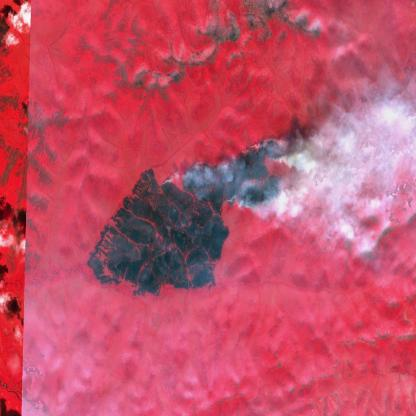fire: (181, 132, 289, 218)
